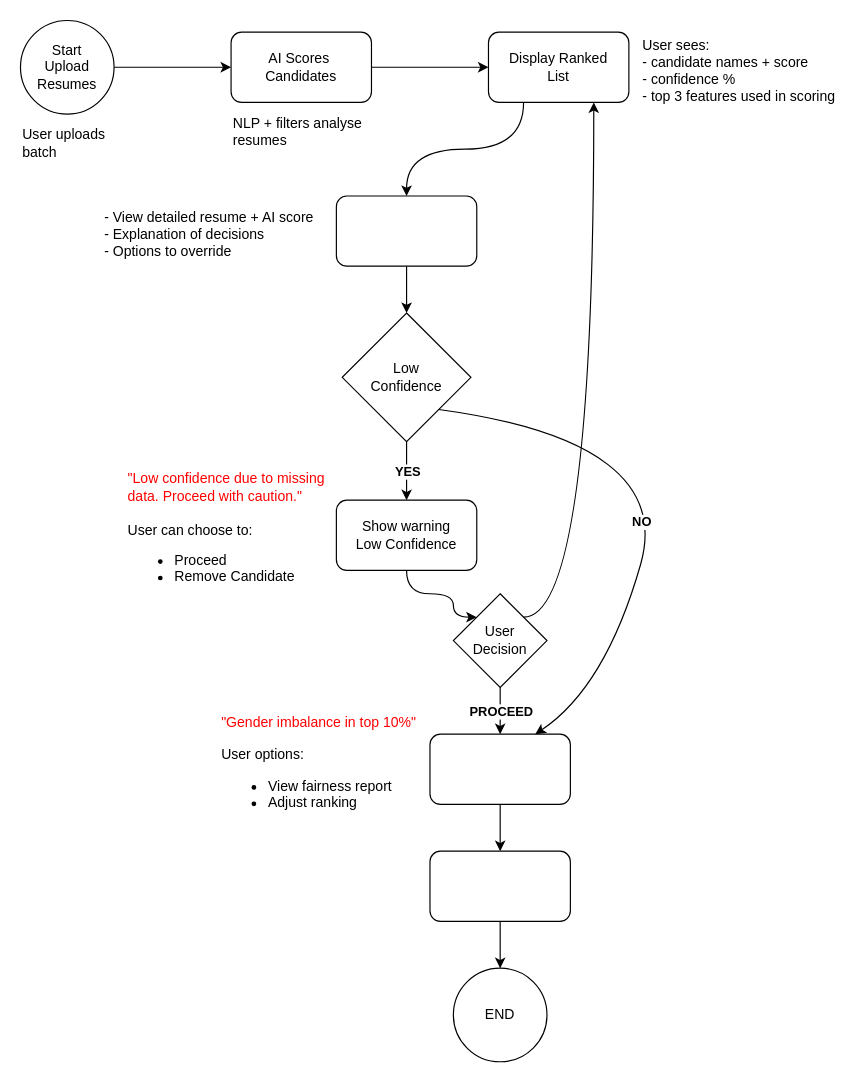
This 860x1082 diagram has some shape labels left out. The shapes that lost their labels are listed below. From the top down, each one's centre as x and y in pixels, then its label:
[406,230]: User Selects Candidate
[499,768]: Fairness Alert Detected
[499,885]: Export Shortlist
